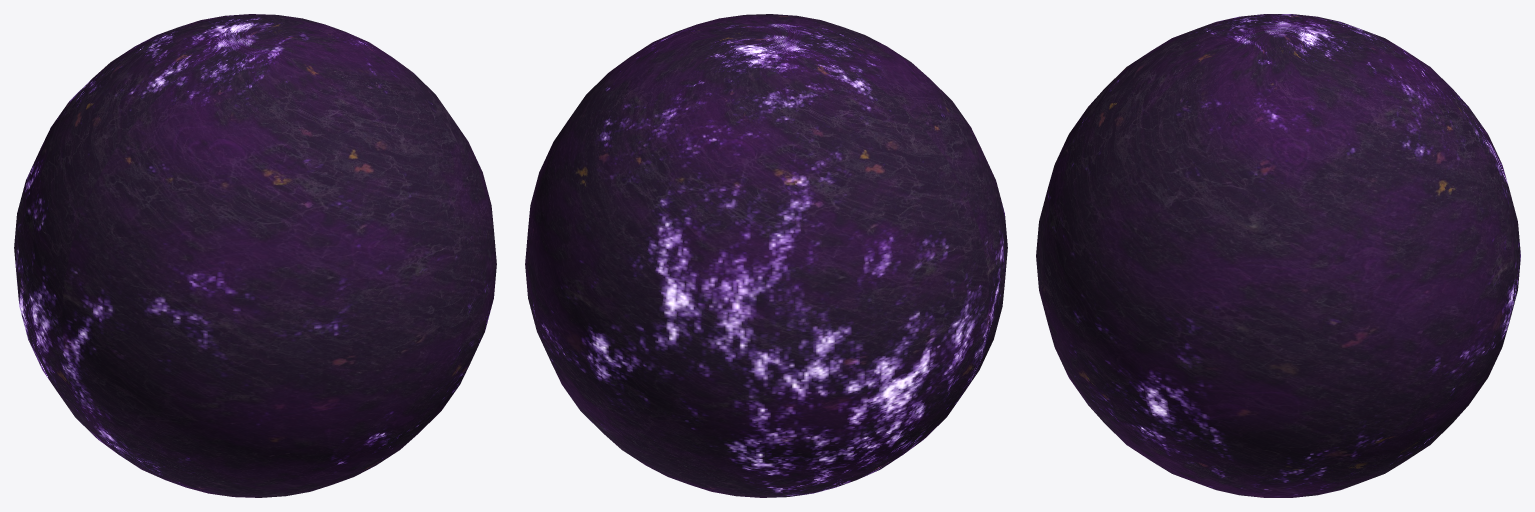
File: Fear.glb
3 renders of one model, left to right at view 1: azimuth 30°, elevation 25°; view 2: azimuth 150°, elevation 25°; view 3: azimuth 270°, elevation 25°, orthographic.
Visible parts, largest first — view 1: Fear.002; view 2: Fear.002; view 3: Fear.002.
Boxes of the visible parts, x1=… form: Fear.002: x1=14, y1=14, x2=496, y2=497; Fear.002: x1=525, y1=14, x2=1007, y2=497; Fear.002: x1=1036, y1=14, x2=1520, y2=497.
Bounding box in the file's own units: 1.99 × 2 × 2.
Materials: 1 (1 with a texture image).
